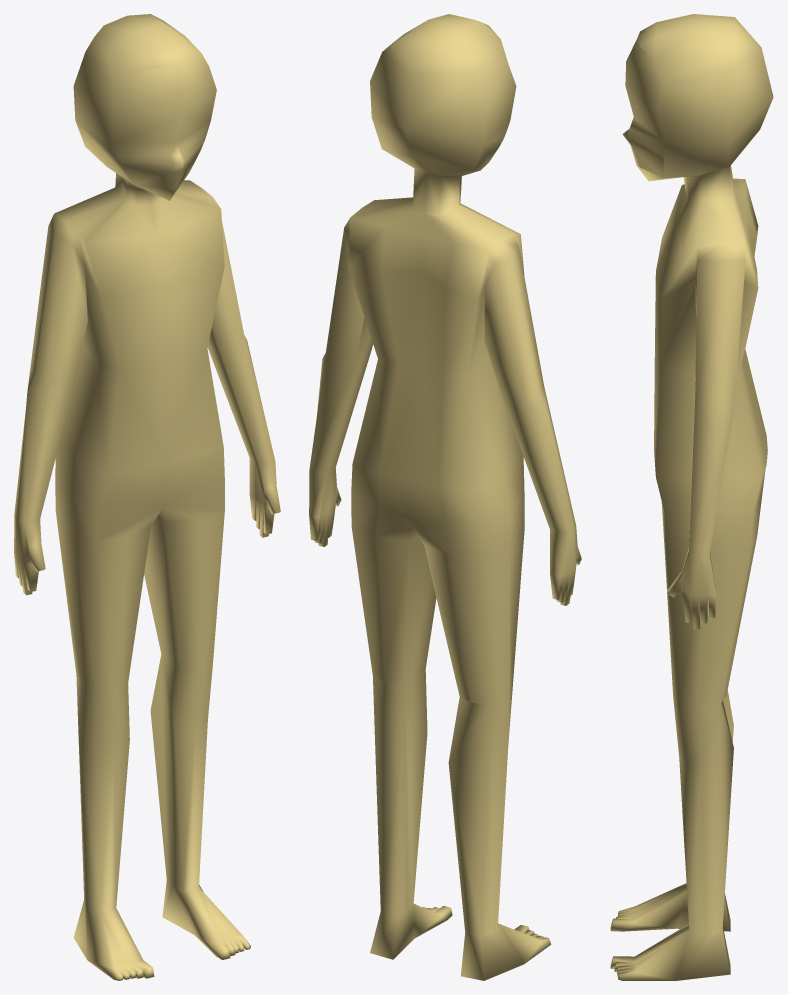
The model's file is body.gltf.
3 renders of one model, left to right at view 1: azimuth 30°, elevation 25°; view 2: azimuth 150°, elevation 25°; view 3: azimuth 270°, elevation 25°, orthographic. The views are drawn at different scales.
Visible parts, largest first — view 1: Cube; view 2: Cube; view 3: Cube.
Part boxes in pixels (x1,y1,x2,y2): Cube: (14,14,280,980); Cube: (309,14,581,980); Cube: (610,14,773,980).
Bounding box in the file's own units: 0.45 × 1.53 × 0.2443.
